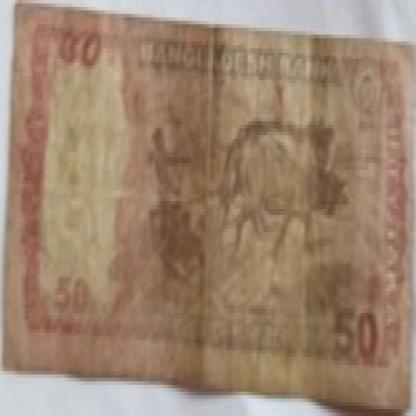Fifty taka: (315, 298, 401, 385), (45, 7, 110, 94)
